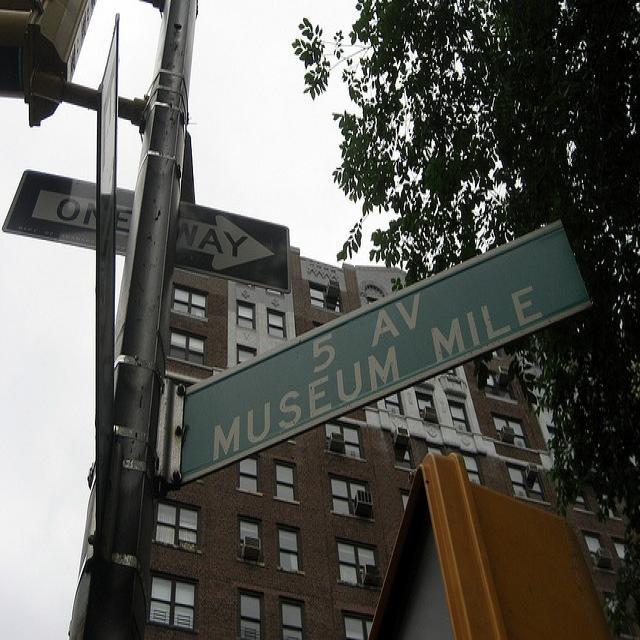pole: (56, 0, 209, 634)
